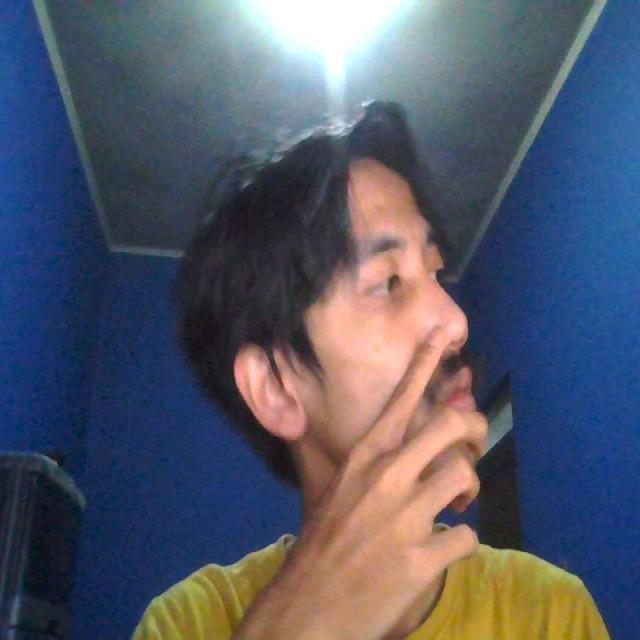movement: (223, 313, 492, 640)
